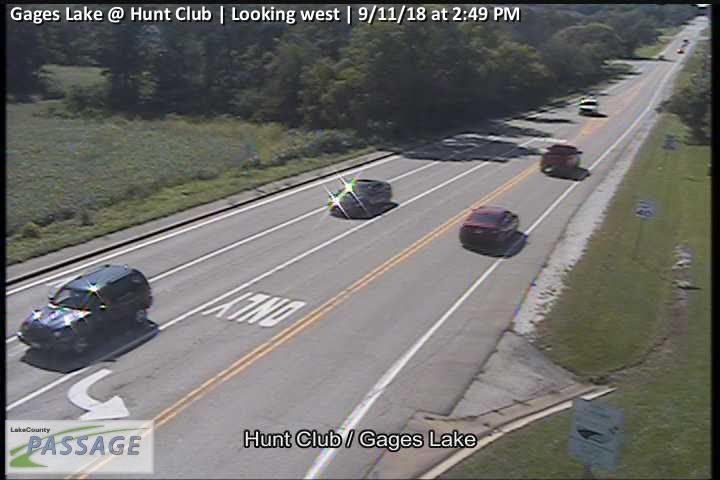SUV: (18, 265, 155, 356), (331, 179, 392, 220), (540, 143, 584, 176), (578, 99, 599, 116)
Sedan: (459, 206, 519, 247)
